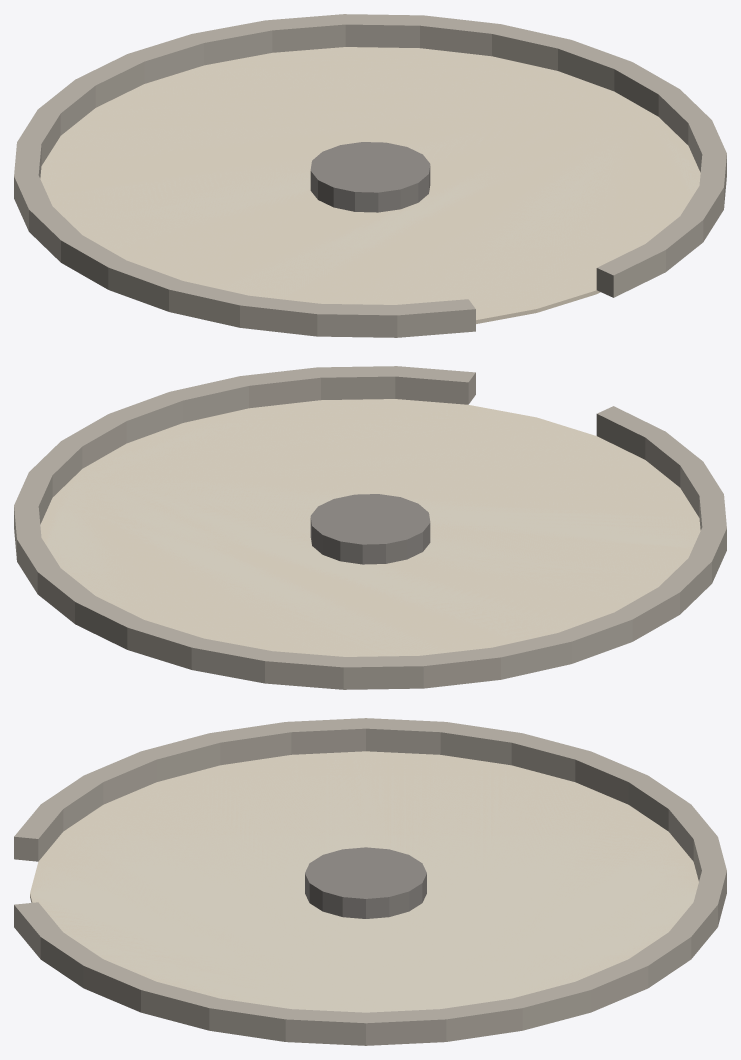
File: ceremonial-infrastructure.lod1.glb
The picture shows the model from 3 angles, top to bottom: view 1: azimuth 30°, elevation 25°; view 2: azimuth 150°, elevation 25°; view 3: azimuth 270°, elevation 25°; orthographic projection.
Bounding box in the file's own units: 13 × 0.5301 × 12.84.
